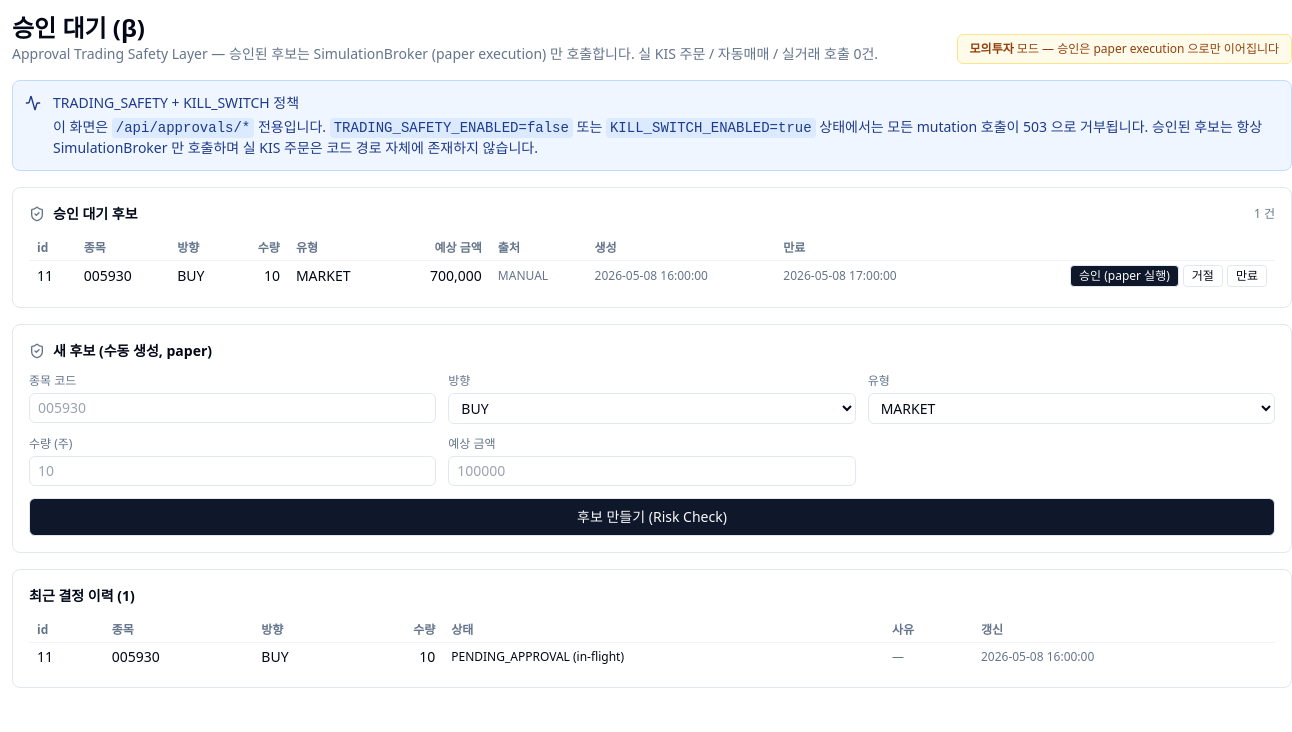
ApprovalsPage › shows the disabled banner when approve POST returns 503
Click the button with test id "approvals-approve-11" at (1124, 276), box left=1070, top=265, right=1179, bottom=287
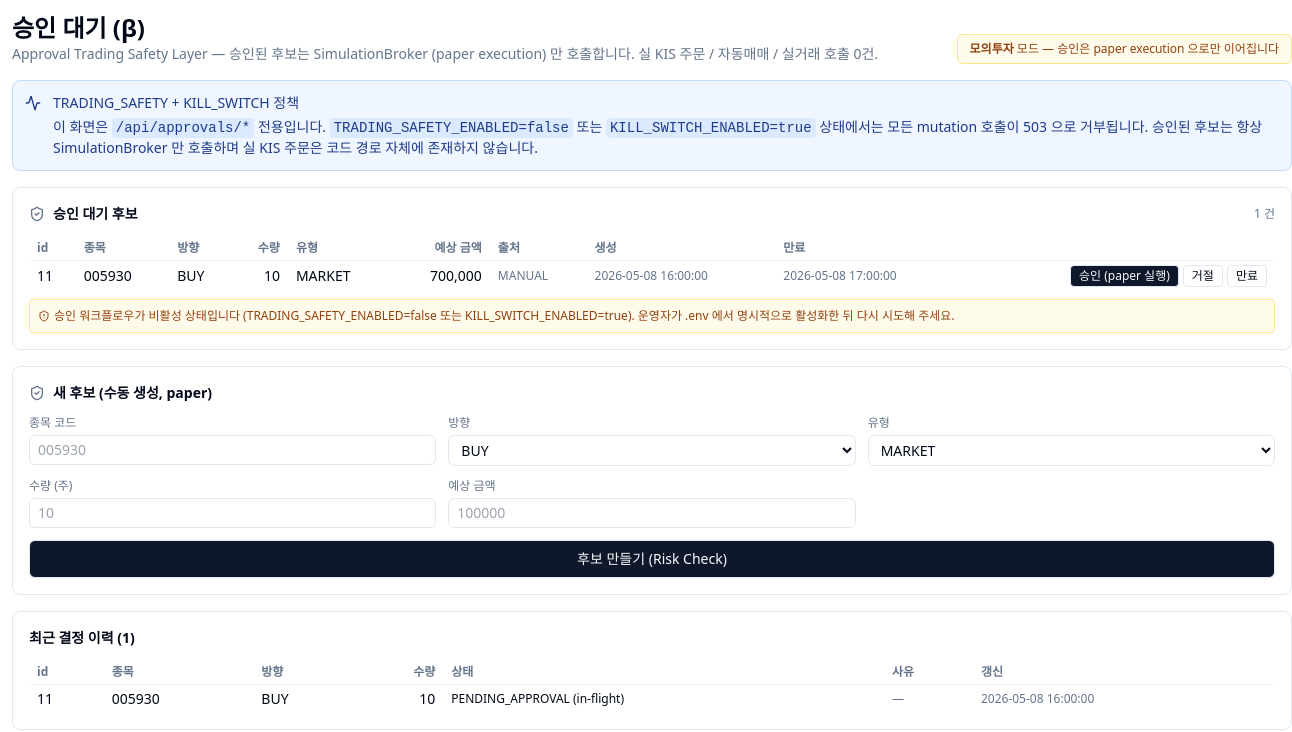
Result: the element with test id "approvals-disabled-banner" is shown at left=29, top=299, right=1275, bottom=333
